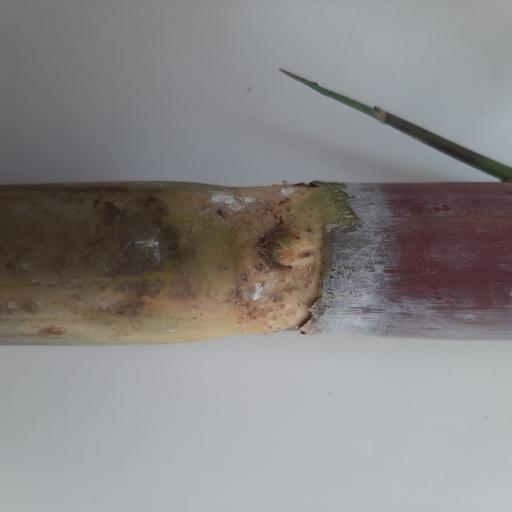Bud: (253, 225, 311, 274)
